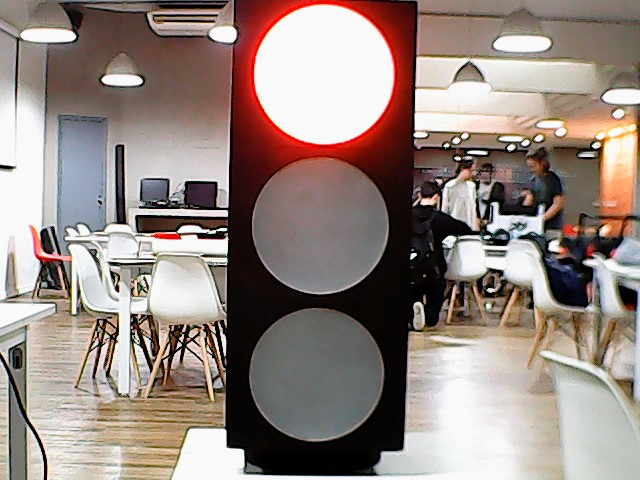vermelho: (220, 1, 426, 452)
